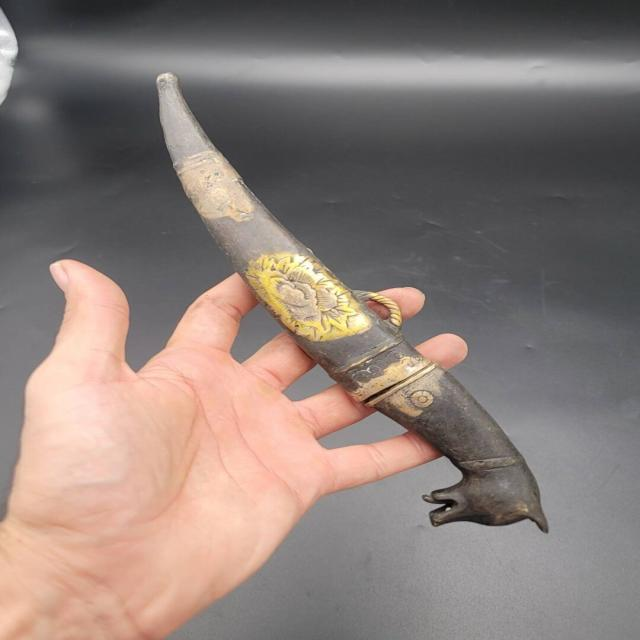short sword: (122, 56, 576, 538)
